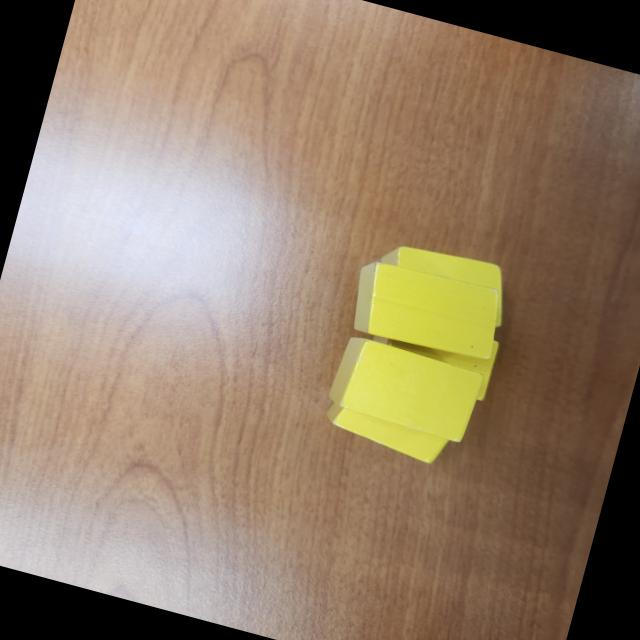yellow: (343, 253, 510, 368), (322, 332, 482, 445), (367, 233, 519, 333), (362, 308, 502, 402), (318, 400, 452, 470)
